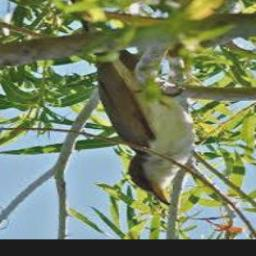Cuckoo: (64, 0, 195, 205)
